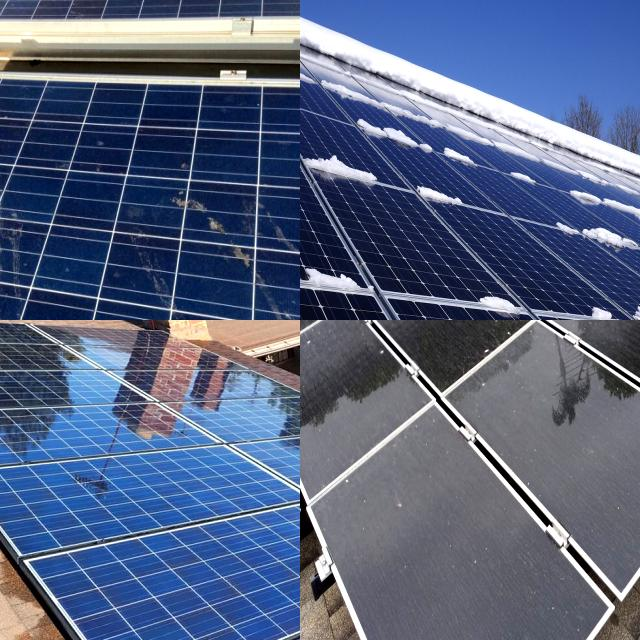bird: (163, 174, 264, 306), (0, 99, 51, 261)
crack: (0, 431, 300, 592), (7, 493, 300, 640), (219, 424, 300, 514)
dust: (361, 484, 489, 640), (461, 352, 574, 470), (329, 320, 456, 422), (589, 320, 640, 528), (505, 532, 583, 640), (446, 320, 602, 360), (300, 320, 328, 364)
panel: (437, 85, 546, 154), (305, 243, 379, 319), (352, 106, 438, 170), (560, 130, 640, 195), (307, 142, 398, 192), (542, 217, 640, 255), (569, 186, 640, 237), (467, 282, 543, 320), (300, 233, 339, 301), (336, 70, 390, 116), (410, 167, 466, 209), (443, 129, 490, 177), (300, 61, 341, 113), (300, 37, 329, 99), (300, 0, 330, 46), (507, 160, 544, 194), (584, 278, 603, 320)
